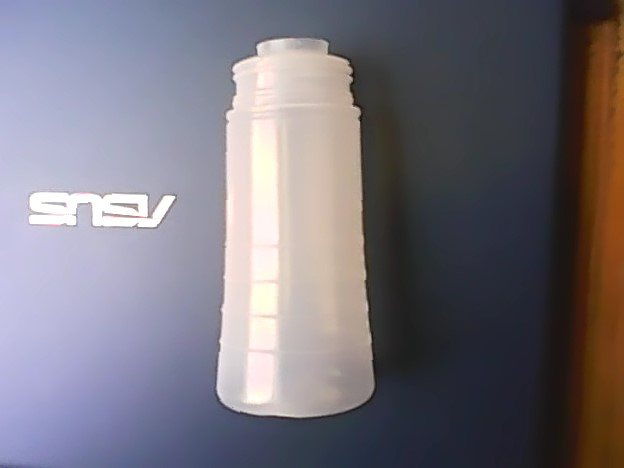Plastic: (213, 34, 375, 421)
